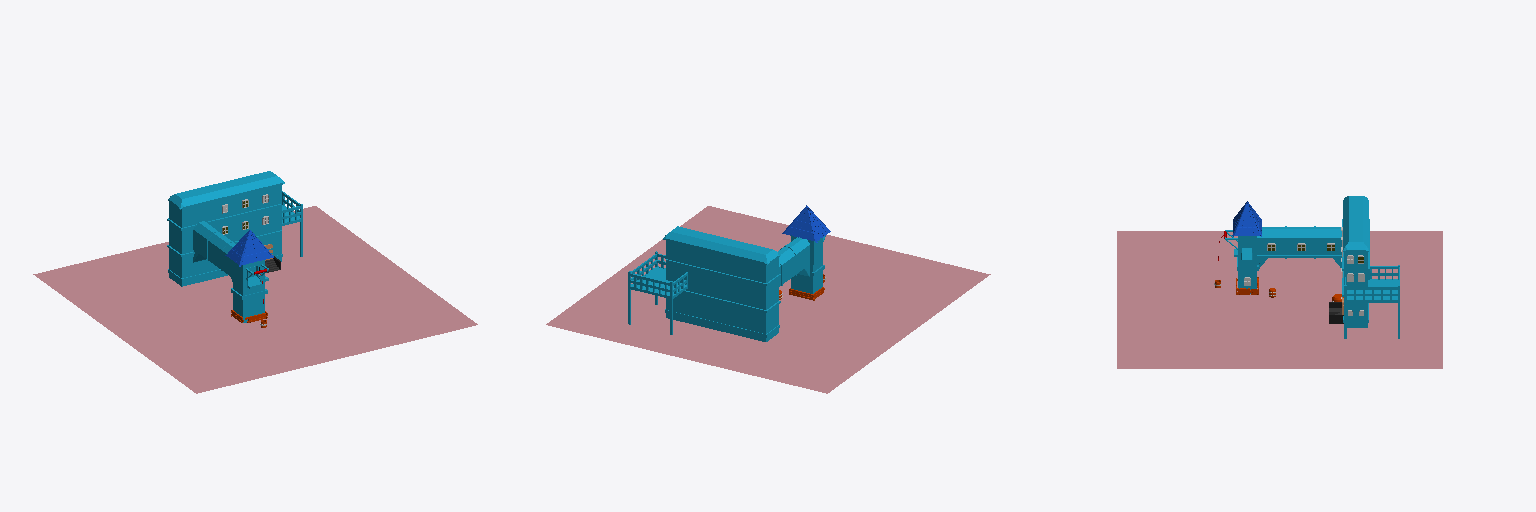
File: CartoonCity2.obj
3 views of the same model, side by side, from view 1: azimuth 30°, elevation 25°; view 2: azimuth 150°, elevation 25°; view 3: azimuth 270°, elevation 25° (orthographic).
Visible parts, largest first — view 1: Plane, Cube.004; view 2: Plane, Cube.004; view 3: Plane, Cube.004.
Part boxes in pixels (x1,y1,x2,y2): Plane: (33,206,477,393); Cube.004: (167,171,302,327); Plane: (546,206,990,393); Cube.004: (628,205,830,341); Plane: (1117,231,1442,368); Cube.004: (1214,196,1399,338).
Size of the model in its own units: 30.61 by 9.16 by 30.61.